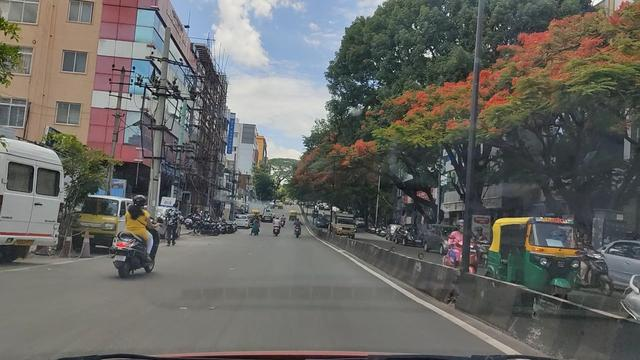LMV: (114, 190, 159, 283)
